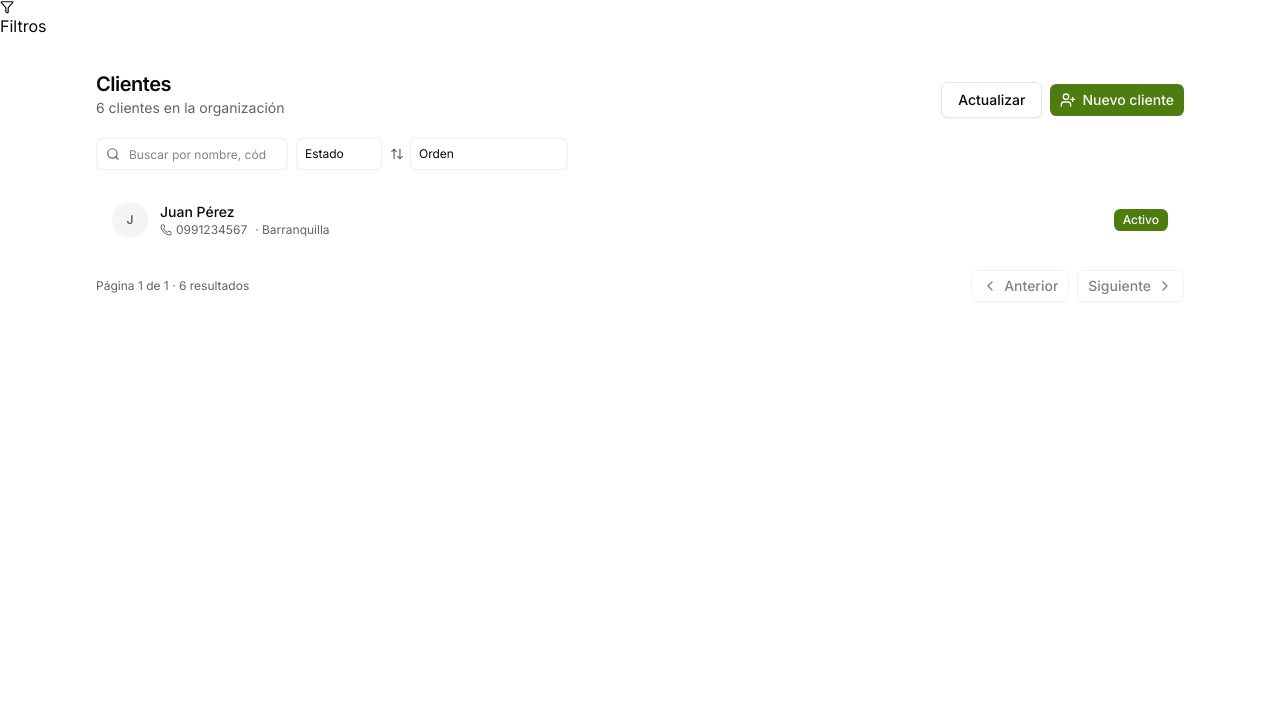
Test case: Clientes + filtro global: borrador y aplicación (FR-005) › limpiar deja la lista sin filtros y el badge a 0
Click the button "Filtros" at (23, 19), box [0,0,46,38]
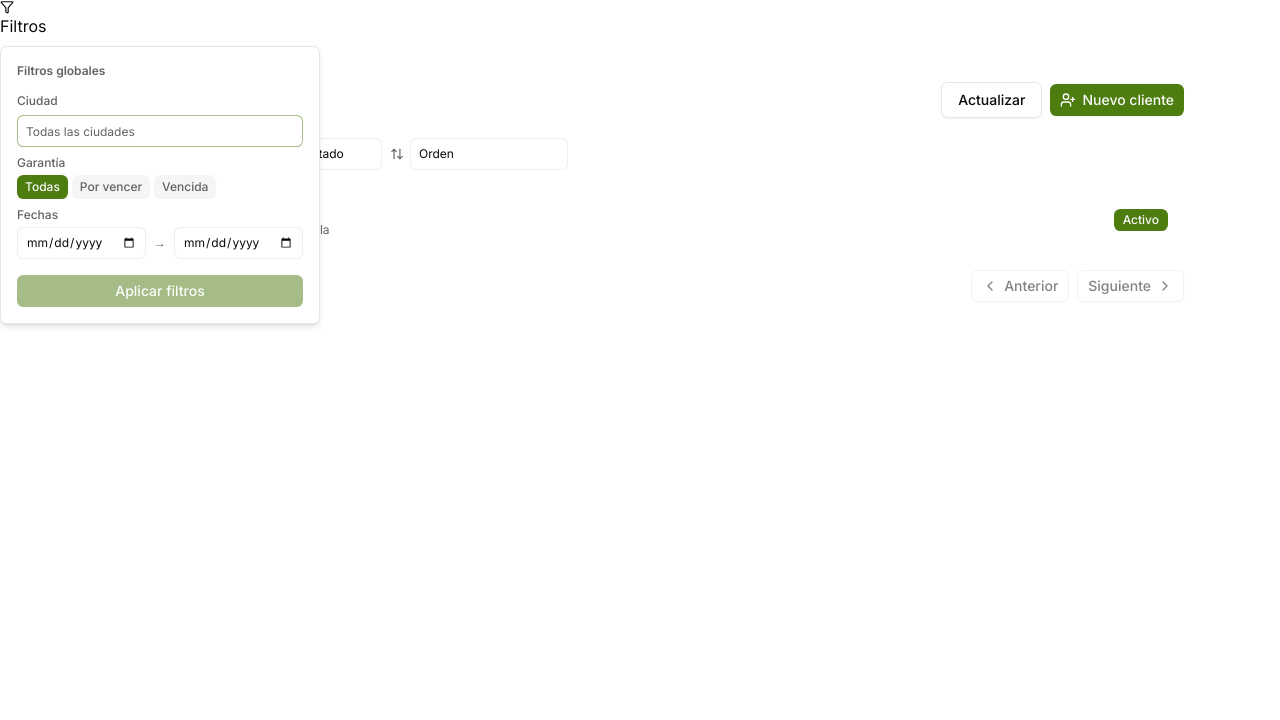
Expected: the field labelled "Ciudad" is shown
Type "Barranquilla" into the field labelled "Ciudad" at (160, 131), box [17,115,303,147]
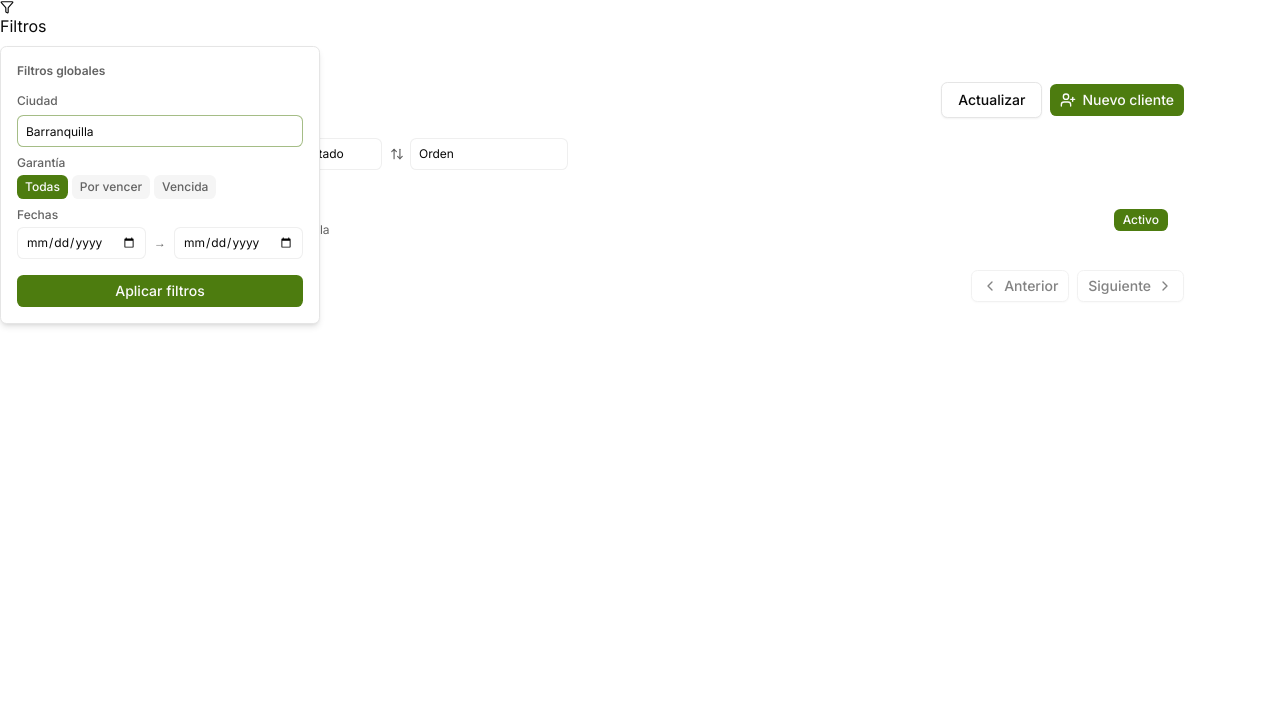
Click the button "Aplicar filtros" at (160, 291), box [17,275,303,307]
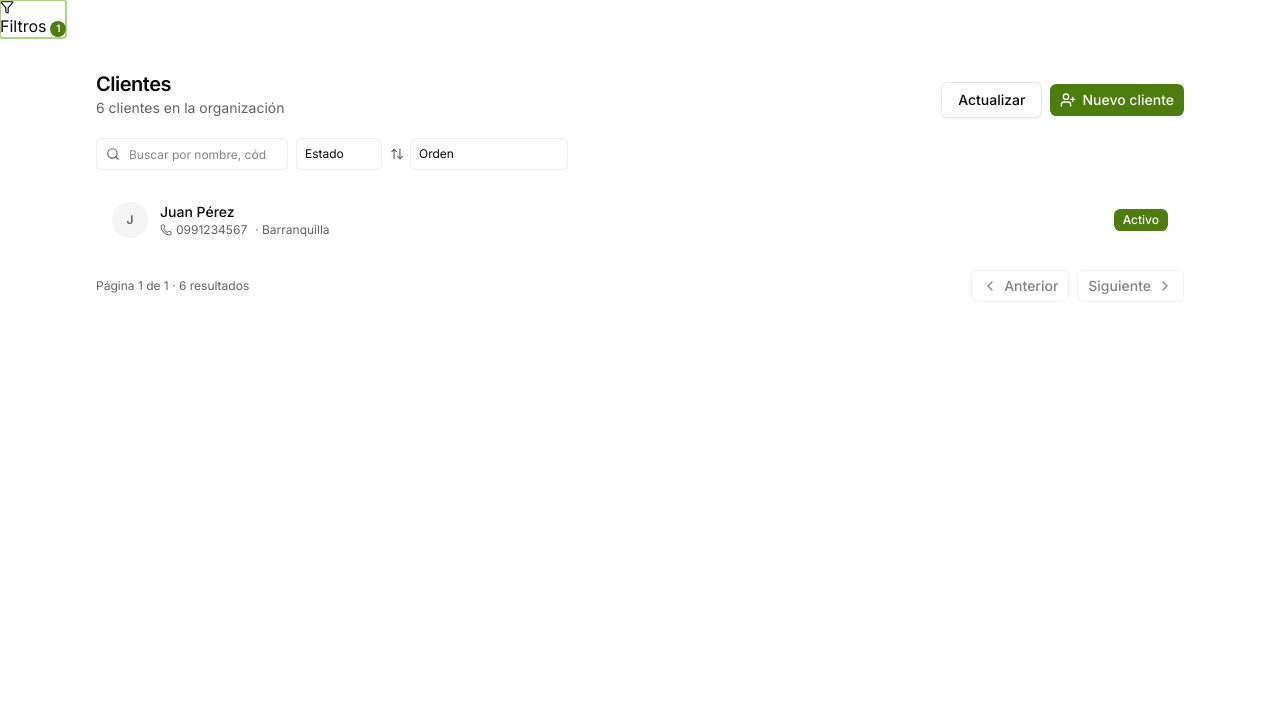
Expected: the text with test id "global-filter-count" reads "1", [56,22,60,34]
Click the button "Filtros 1" at (33, 19), box [0,0,66,38]
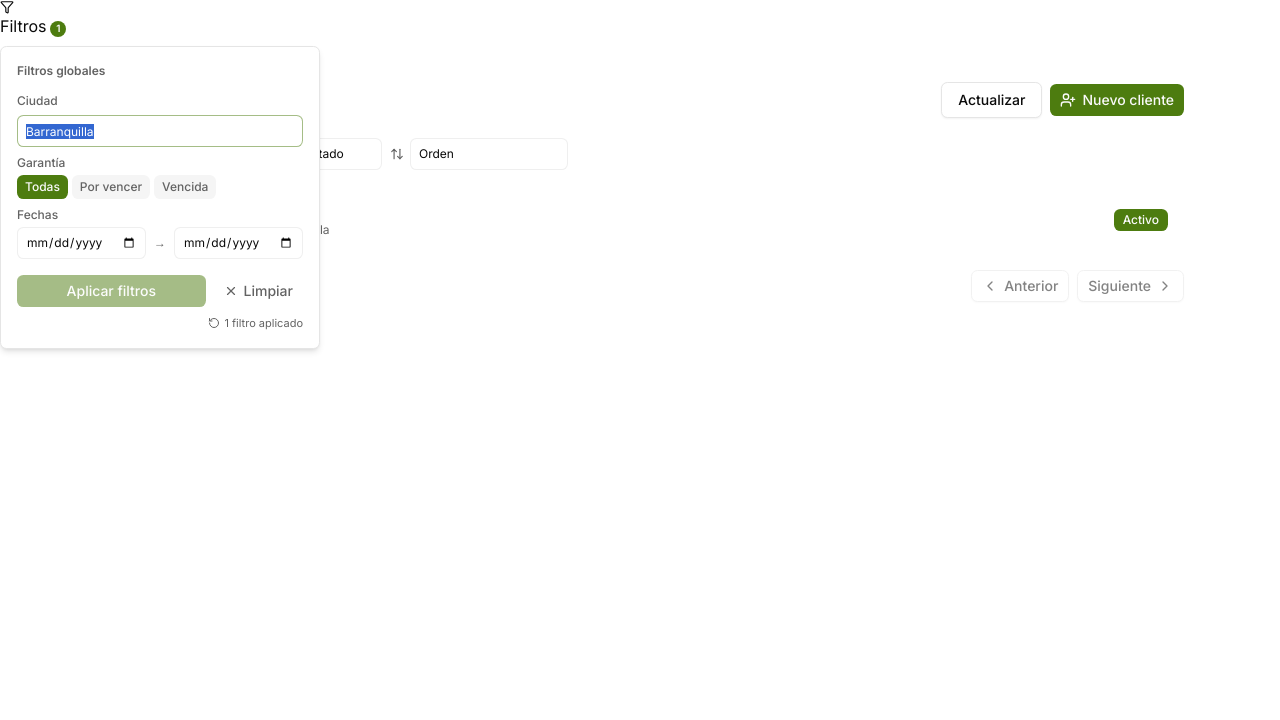
Expected: the field labelled "Ciudad" is shown, [17,115,303,147]
Click the button with aria-label "Limpiar filtros" at (258, 291), box [214,275,303,307]
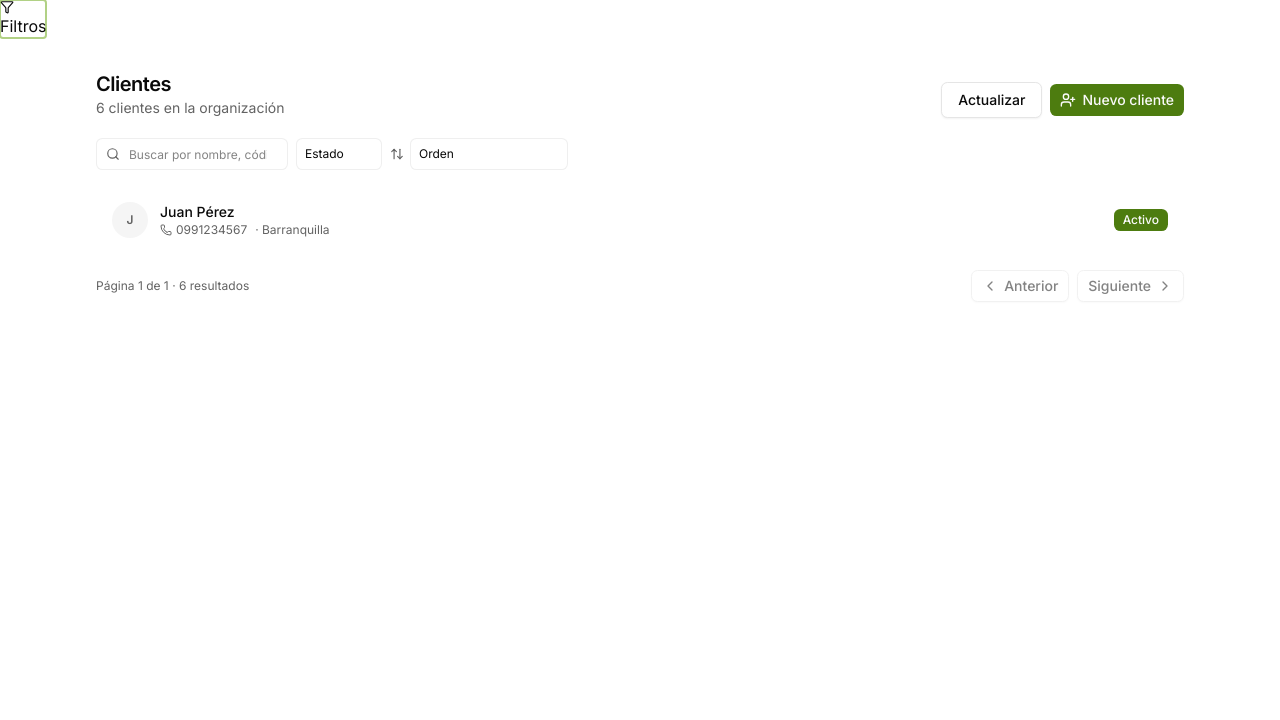
Expected: the text with test id "global-filter-count" is gone
